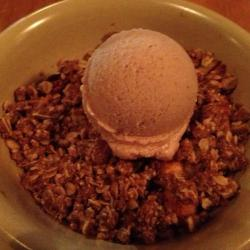icecream: (73, 30, 198, 169)
